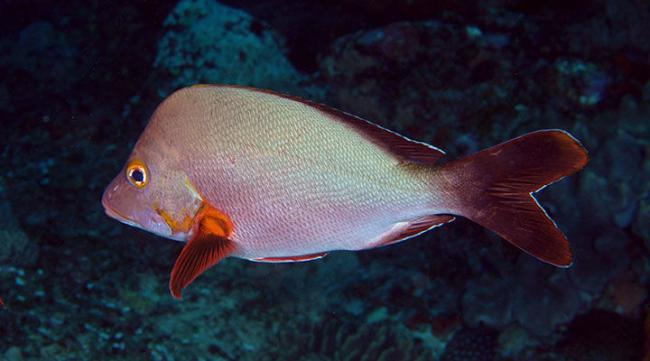fish: (101, 83, 589, 301)
